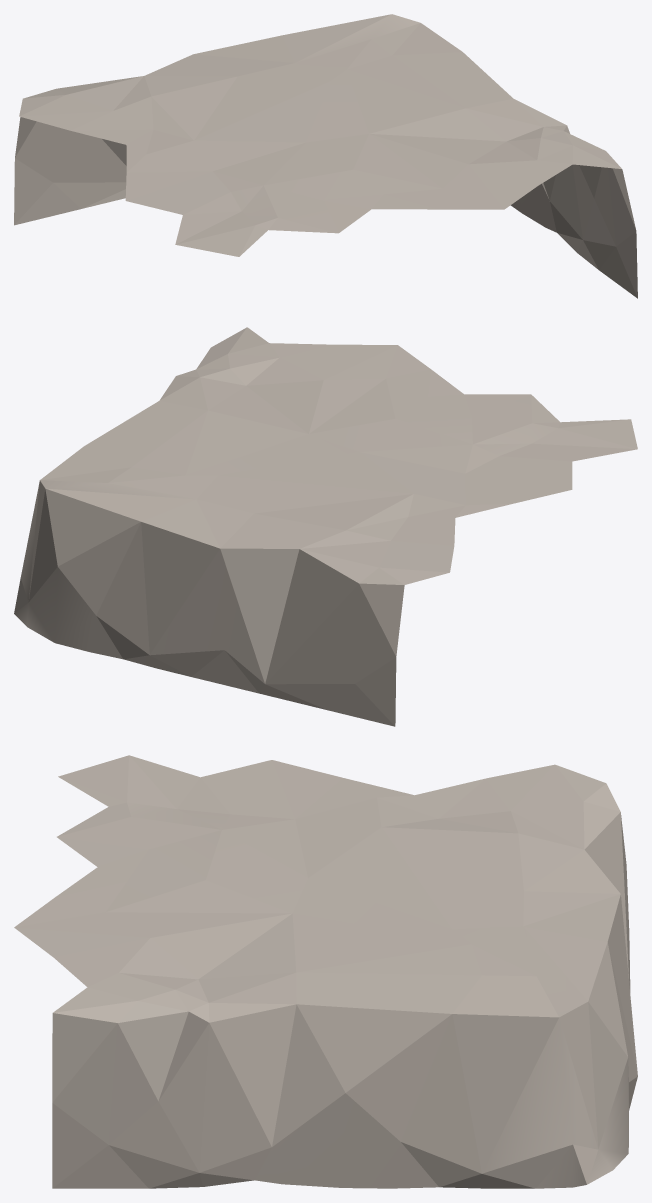
File: BG_rock_LowWall_01_connerA.fbx
3 renders of one model, top to bottom at view 1: azimuth 30°, elevation 25°; view 2: azimuth 150°, elevation 25°; view 3: azimuth 270°, elevation 25°, orthographic. The views are drawn at different scales.
Parts seen in each view (by area): view 1: BG_rock_LowWall_01_connerA; view 2: BG_rock_LowWall_01_connerA; view 3: BG_rock_LowWall_01_connerA.
Boxes of the visible parts, <box> form: BG_rock_LowWall_01_connerA: <box>14,14,637,298</box>; BG_rock_LowWall_01_connerA: <box>14,327,637,726</box>; BG_rock_LowWall_01_connerA: <box>14,755,637,1188</box>.
Bounding box in the file's own units: 32.63 × 9.87 × 32.26.
